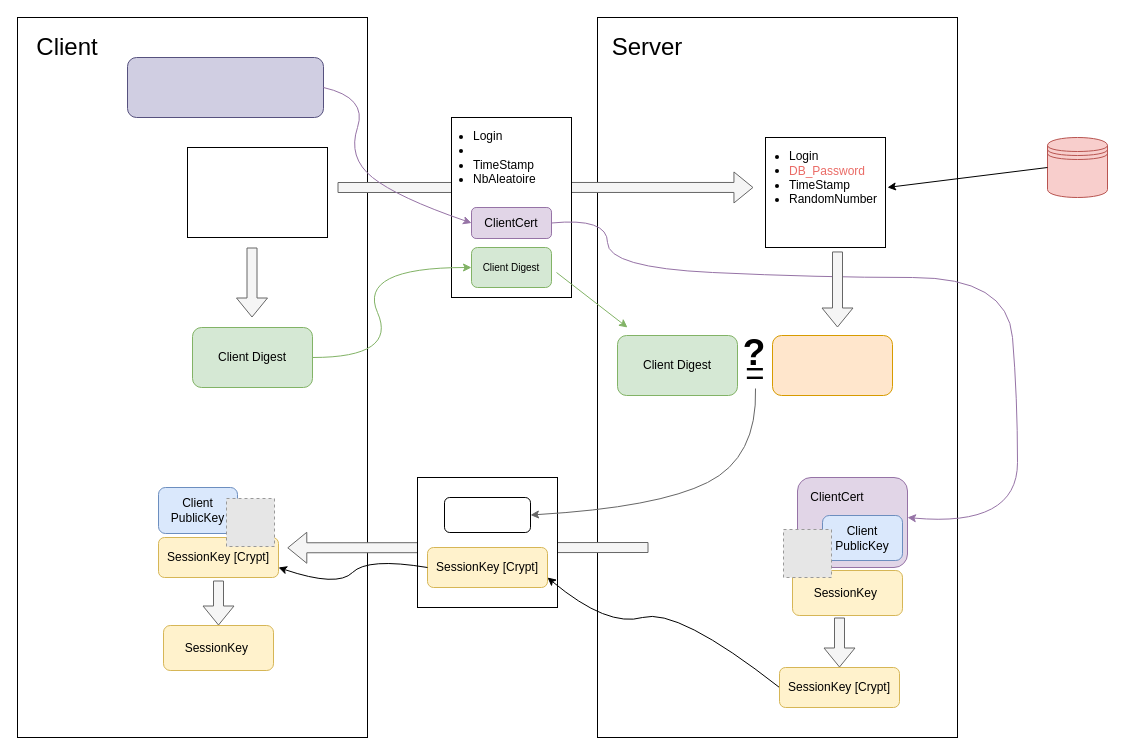
This 1125x755 diagram has some shape labels left out. Grey dashed boxes stand in for pictures. Here are the shapes that lost their labels. From the top down, the centre of each, then its label:
the point at 225,87: Get or Generate Client KeyPair + Client Certificate
the point at 1077,167: DB
the point at 257,192: Login Password Client TimeStamp RandomNumber
the point at 832,365: Server Digest
the point at 487,514: YES / NO
